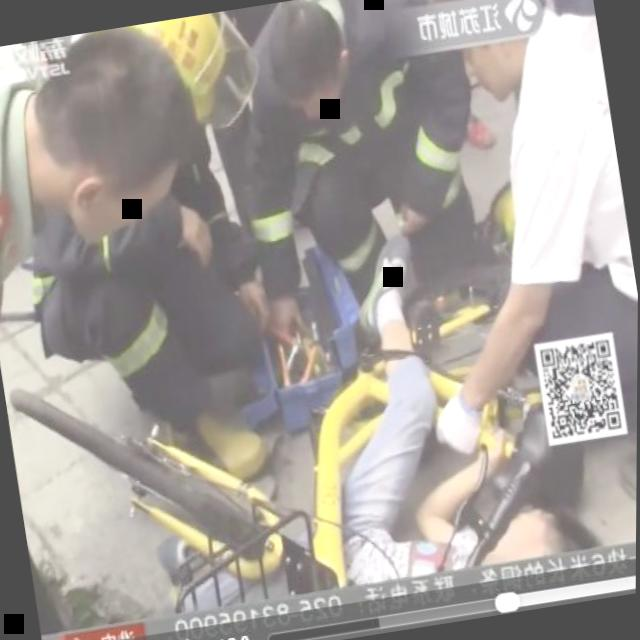Fall-Detected: (283, 188, 581, 610)
